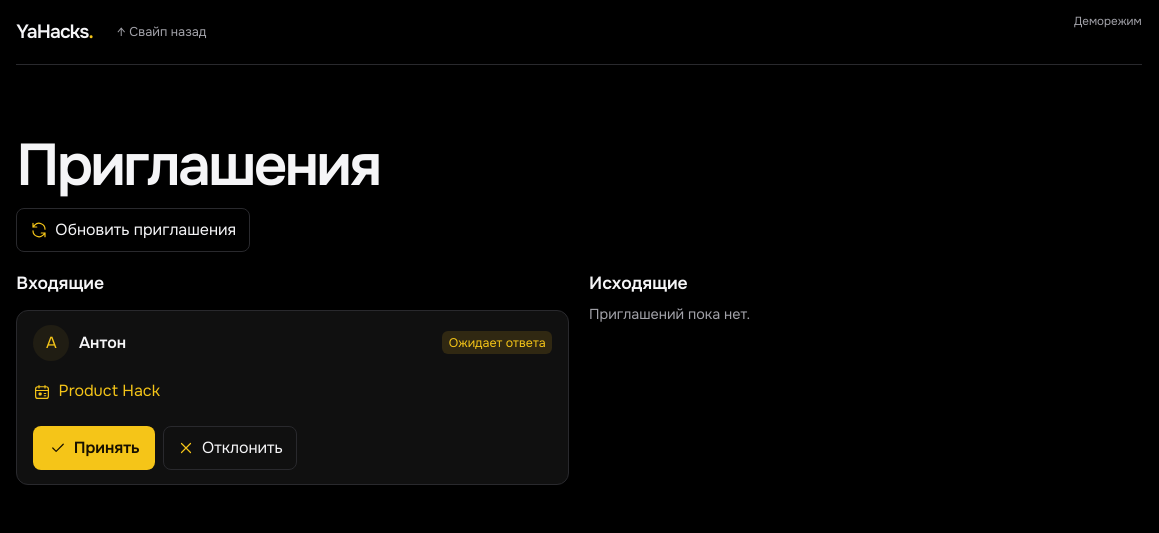
YaHacks MVP › can retry a failed invitation reply without changing its status prematurely
Click the button "Принять" at coordinates (94, 448), box [33,426,155,470]
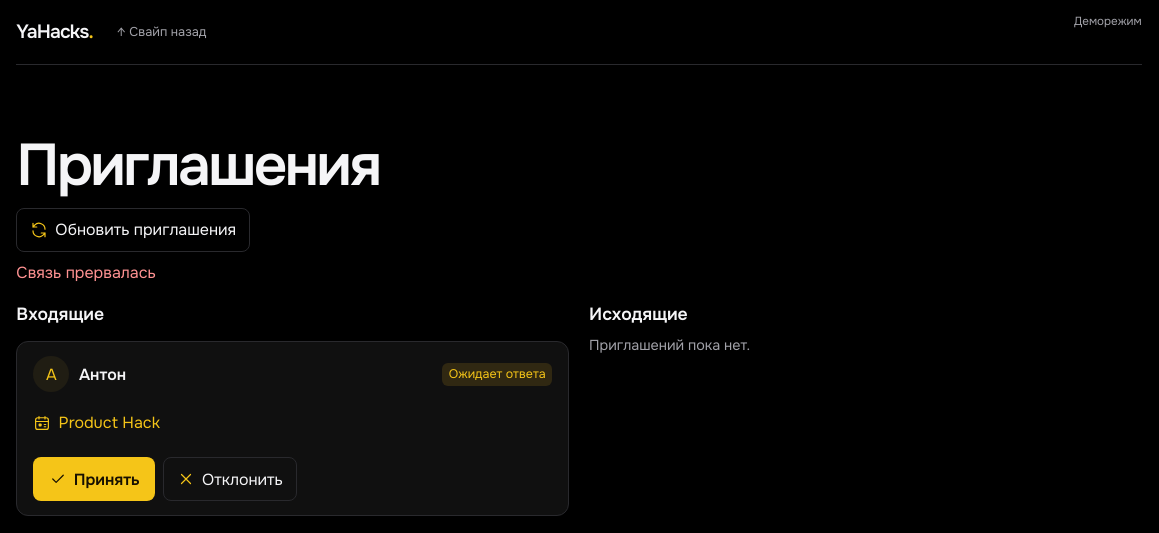
Expected: the text "Ожидает ответа" is shown, [442,363,552,386]
Now the message reads "Связь прервалась", box [16,262,156,283]
Click the button "Принять" at coordinates (94, 479), box [33,457,155,501]
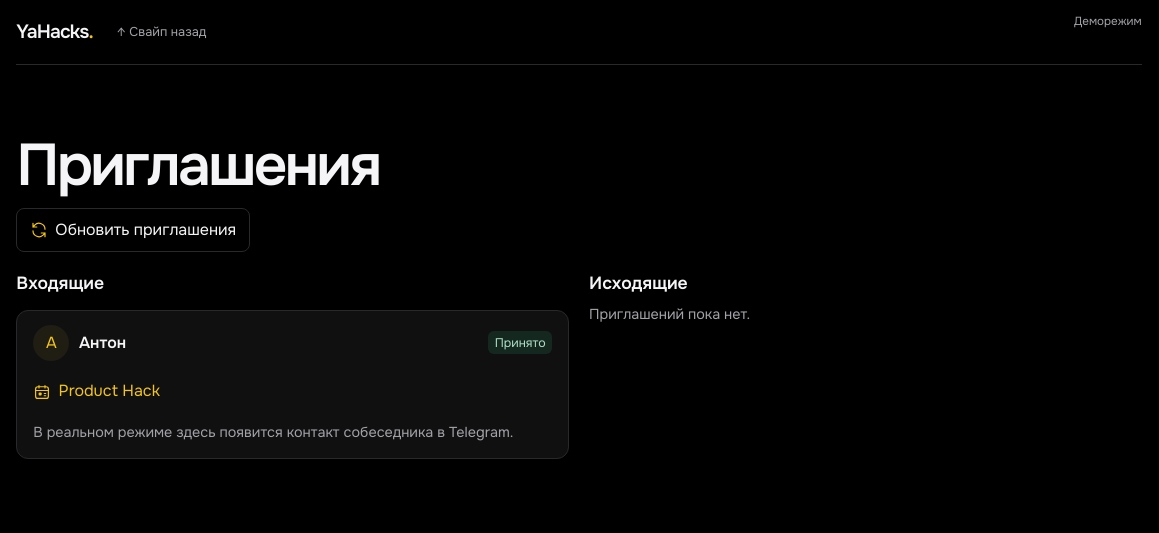
Now the text "Принято" is shown, box [488,331,552,354]
Now the message "Связь прервалась" is gone
